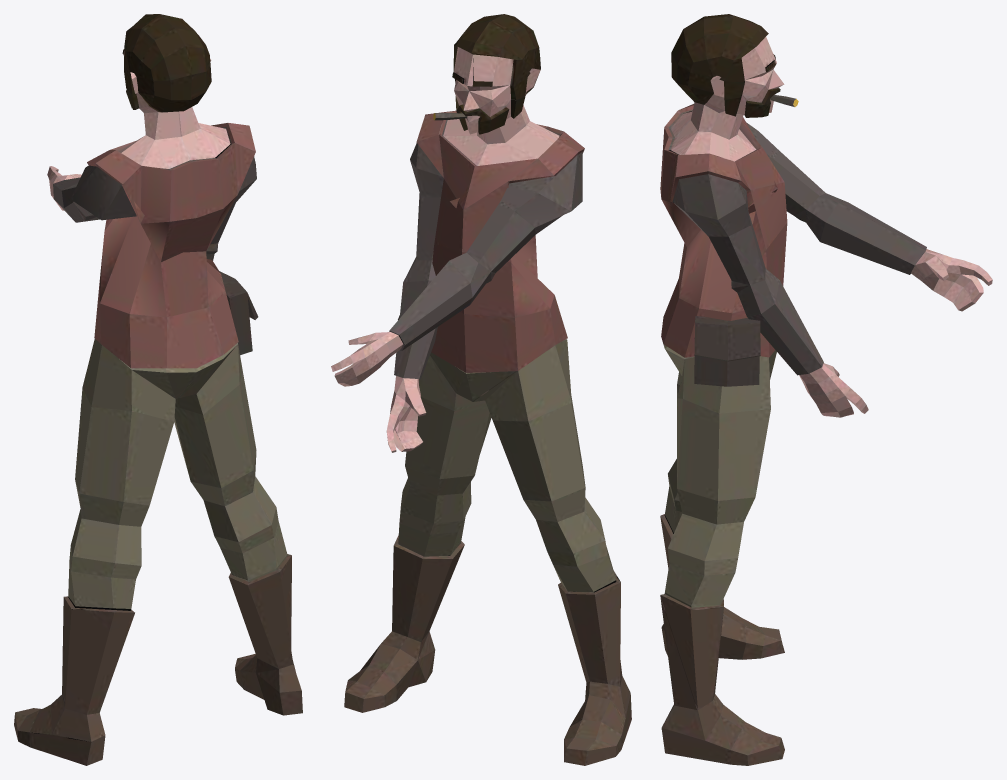
The model's file is inf_civ_2_armed.glb.
3 views of the same model, side by side, from view 1: azimuth 30°, elevation 25°; view 2: azimuth 150°, elevation 25°; view 3: azimuth 270°, elevation 25° (orthographic). The views are drawn at different scales.
Parts seen in each view (by area): view 1: inf_civ_2_armed; view 2: inf_civ_2_armed; view 3: inf_civ_2_armed.
Part boxes in pixels (x1,y1,x2,y2): inf_civ_2_armed: [14, 14, 302, 765]; inf_civ_2_armed: [331, 14, 631, 765]; inf_civ_2_armed: [660, 14, 992, 765].
Bounding box in the file's own units: 0.7095 × 1.76 × 0.7725.
Materials: 1 (1 with a texture image).
